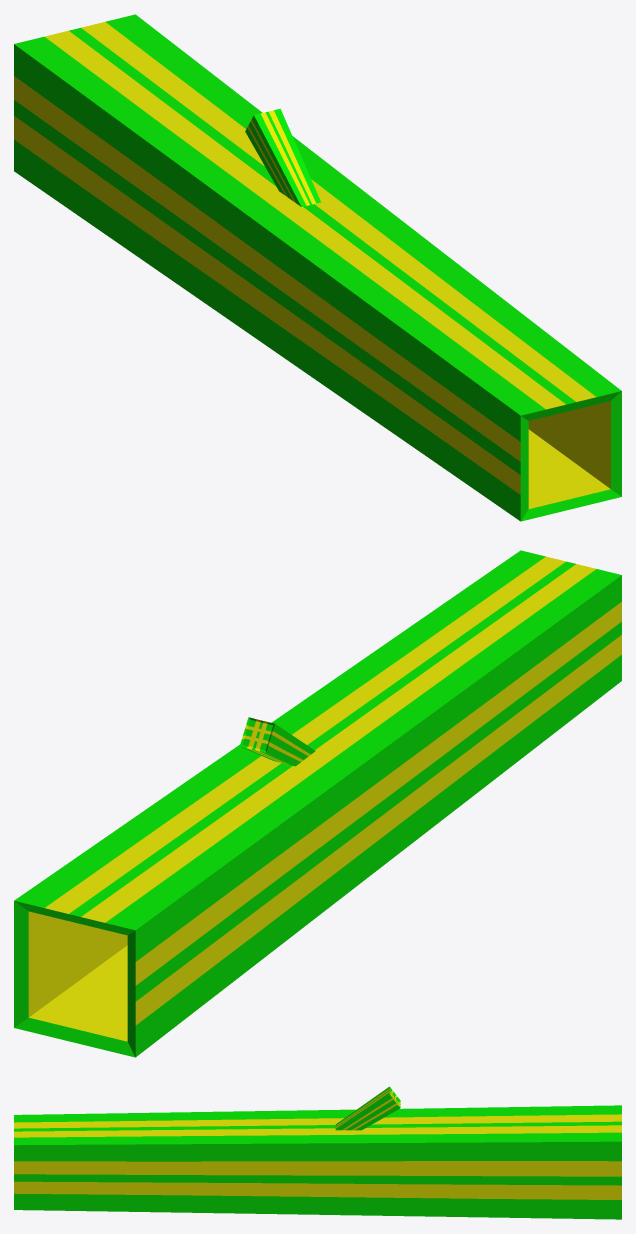
The model's file is log.fbx.
3 renders of one model, top to bottom at view 1: azimuth 30°, elevation 25°; view 2: azimuth 150°, elevation 25°; view 3: azimuth 270°, elevation 25°, orthographic. The views are drawn at different scales.
Parts seen in each view (by area): view 1: pCube1, pCube2; view 2: pCube1, pCube2; view 3: pCube1, pCube2.
Boxes of the visible parts, x1,y1,x2,y2 form: pCube1: (14, 14, 621, 521); pCube2: (245, 108, 320, 206); pCube1: (14, 550, 621, 1057); pCube2: (239, 717, 315, 766); pCube1: (14, 1105, 621, 1219); pCube2: (335, 1086, 400, 1130).
Size of the model in its own units: 1 by 1.44 by 7.07.
